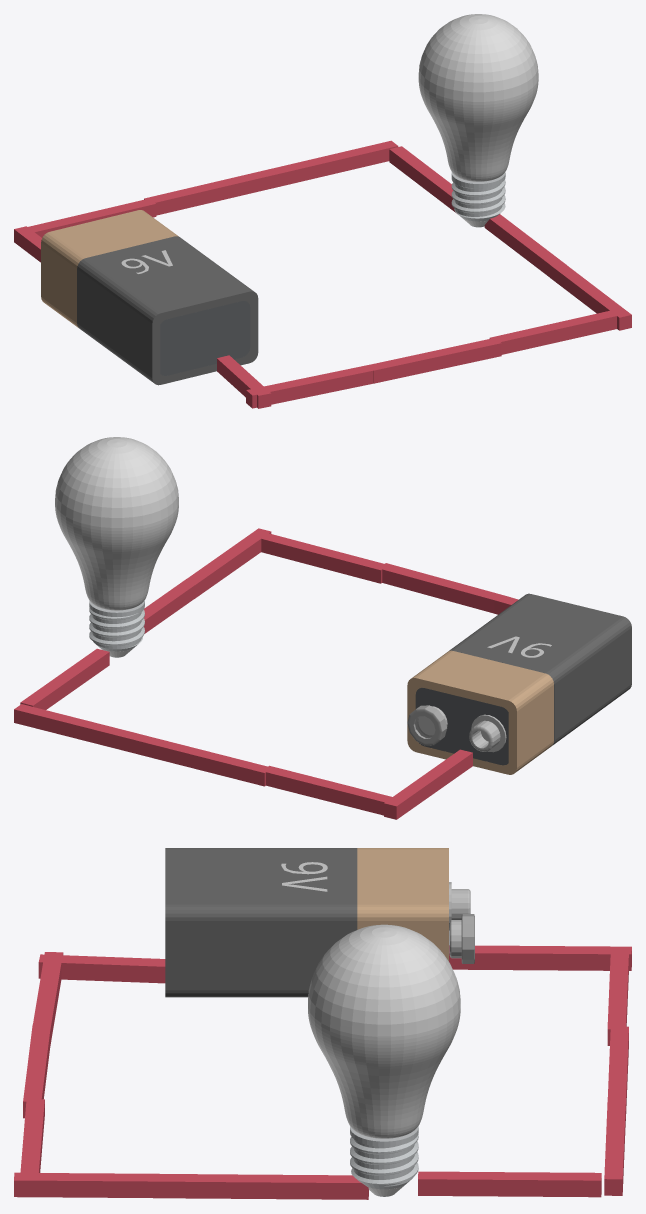
File: Circuit.glb
3 renders of one model, top to bottom at view 1: azimuth 30°, elevation 25°; view 2: azimuth 150°, elevation 25°; view 3: azimuth 270°, elevation 25°, orthographic. The views are drawn at different scales.
Visible parts, largest first — view 1: Mesh_Mesh_head_geo.001_lambert2SG.001; view 2: Mesh_Mesh_head_geo.001_lambert2SG.001; view 3: Mesh_Mesh_head_geo.001_lambert2SG.001.
Part boxes in pixels (x1,y1,x2,y2): Mesh_Mesh_head_geo.001_lambert2SG.001: (14, 14, 631, 408); Mesh_Mesh_head_geo.001_lambert2SG.001: (14, 437, 631, 819); Mesh_Mesh_head_geo.001_lambert2SG.001: (14, 848, 631, 1199).
Bounding box in the file's own units: 112 × 47 × 101.
